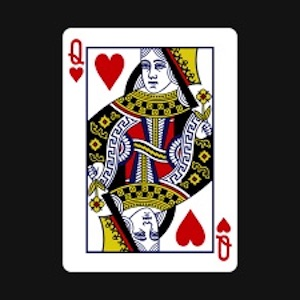QueenOfHearts: (54, 19, 246, 279)
